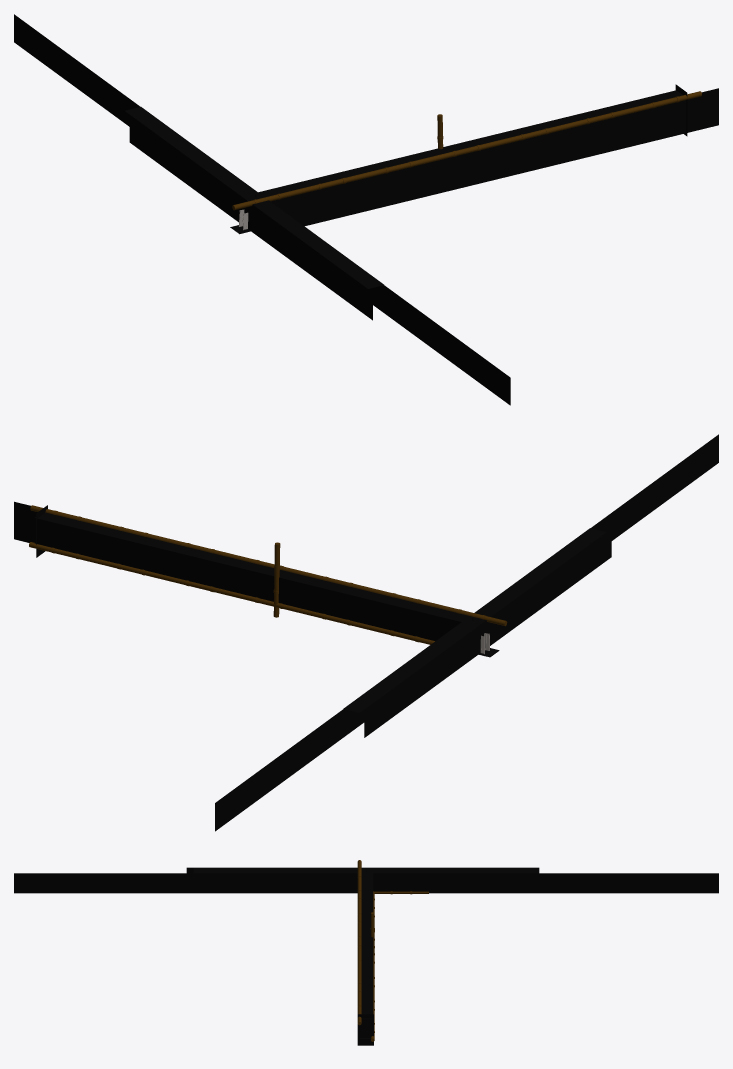
The model's file is menu_test2.glb.
3 renders of one model, top to bottom at view 1: azimuth 30°, elevation 25°; view 2: azimuth 150°, elevation 25°; view 3: azimuth 270°, elevation 25°, orthographic. The views are drawn at different scales.
Parts seen in each view (by area): view 1: Plane, Cube; view 2: Plane, Cube; view 3: Plane, Plane.001.
Part boxes in pixels (x1,y1,x2,y2): Plane: (14,14,682,405); Cube: (271,88,718,226); Plane: (34,434,718,831); Cube: (14,501,37,542); Plane: (14,867,718,1038); Plane.001: (357,1014,373,1045).
Bounding box in the file's own units: 58.34 × 8.28 × 103.
